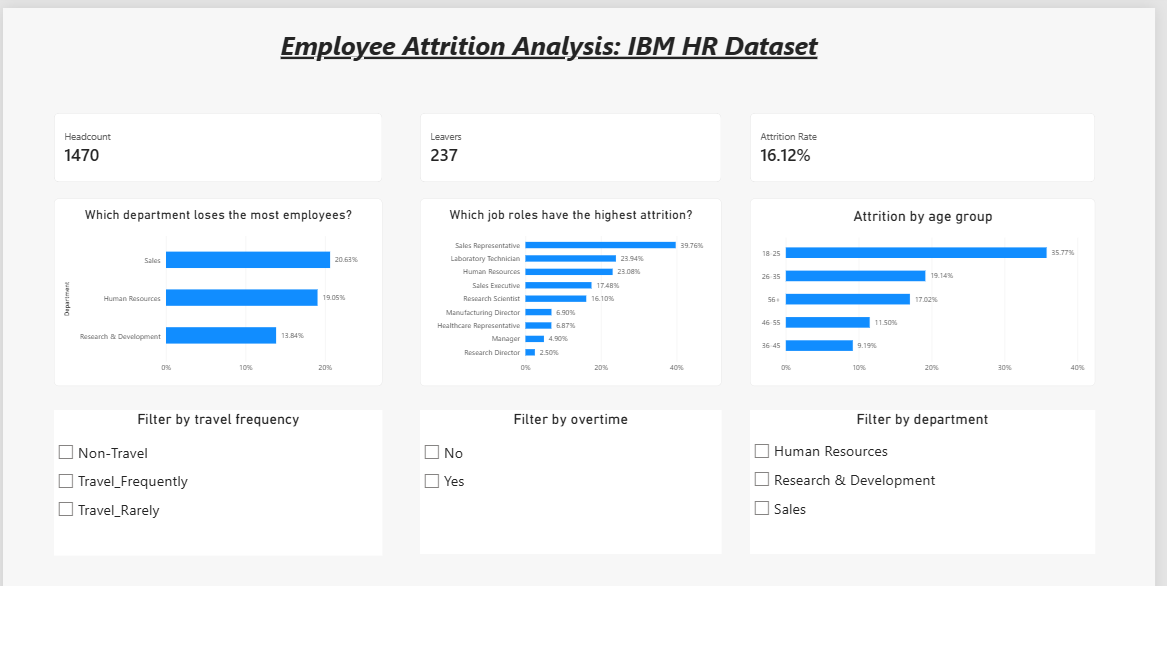

The dashboard page shown, as its layout file describes it:
{"tool":"powerbi","page":{"name":"Overview","canvas":[1920,1080],"ordinal":0},"visuals":[{"type":"cardVisual","fields":{"Data":["attrition_clean.Headcount"]},"box":[85,175,547.5,115],"z":0},{"type":"cardVisual","fields":{"Data":["attrition_clean.Leavers"]},"box":[695,175,502.5,115],"z":1000},{"type":"cardVisual","fields":{"Data":["attrition_clean.Attrition Rate"]},"box":[1245,175,575,115],"z":2000},{"type":"clusteredBarChart","title":"Which department loses the most employees?","fields":{"Category":["attrition_clean.Department"],"Y":["attrition_clean.Attrition Rate"]},"box":[85,317.5,547.5,312.5],"z":3000},{"type":"clusteredBarChart","title":"Which job roles have the highest attrition?","fields":{"Category":["attrition_clean.JobRole"],"Y":["attrition_clean.Attrition Rate"]},"box":[695,317.5,502.5,312.5],"z":4000},{"type":"clusteredBarChart","title":"Attrition by age group","fields":{"Category":["attrition_clean.AgeBand"],"Y":["attrition_clean.Attrition Rate"]},"box":[1245,317.5,575,312.5],"z":5000},{"type":"slicer","title":"Filter by department","fields":{"Values":["attrition_clean.Department"]},"box":[1245,670,575,240],"z":6000},{"type":"slicer","title":"Filter by overtime","fields":{"Values":["attrition_clean.OverTime"]},"box":[695,670,502.5,240],"z":7000},{"type":"slicer","title":"Filter by travel frequency","fields":{"Values":["attrition_clean.BusinessTravel"]},"box":[85,670,547.5,242.5],"z":8000},{"type":"textbox","box":[10,789.5,280,243],"z":9000},{"type":"textbox","box":[0,32.5,1820,130],"z":10000}]}

Visuals, with their boxes in screenshot pixels (x1, y1, x2, y2), scaled from the page's 1920x1080 canvas onto the 1167x648 screenshot:
cardVisual - attrition_clean.Headcount: x1=52, y1=105, x2=384, y2=174
cardVisual - attrition_clean.Leavers: x1=422, y1=105, x2=728, y2=174
cardVisual - attrition_clean.Attrition Rate: x1=757, y1=105, x2=1106, y2=174
"Which department loses the most employees?" clusteredBarChart: x1=52, y1=190, x2=384, y2=378
"Which job roles have the highest attrition?" clusteredBarChart: x1=422, y1=190, x2=728, y2=378
"Attrition by age group" clusteredBarChart: x1=757, y1=190, x2=1106, y2=378
"Filter by department" slicer: x1=757, y1=402, x2=1106, y2=546
"Filter by overtime" slicer: x1=422, y1=402, x2=728, y2=546
"Filter by travel frequency" slicer: x1=52, y1=402, x2=384, y2=548
textbox: x1=6, y1=474, x2=176, y2=620
textbox: x1=0, y1=20, x2=1106, y2=98
